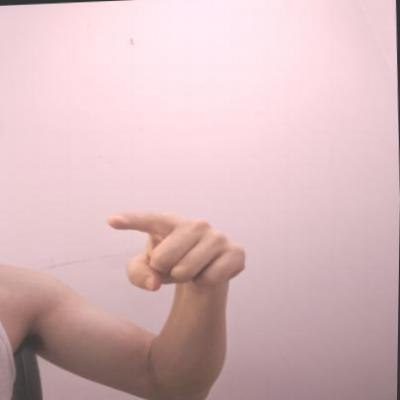hand: (102, 204, 251, 297)
